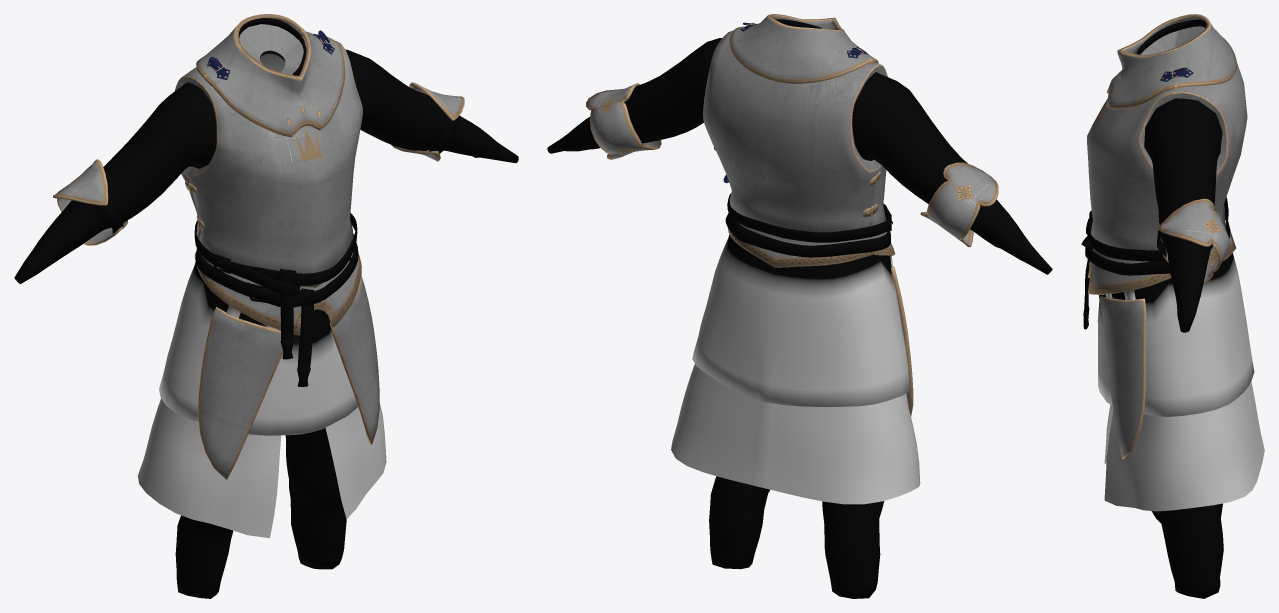
Rendered from swan_knight_armor_2b_t3_slim.fbx.
The picture shows the model from 3 angles, left to right: view 1: azimuth 30°, elevation 25°; view 2: azimuth 150°, elevation 25°; view 3: azimuth 270°, elevation 25°; orthographic projection. The views are drawn at different scales.
Visible parts, largest first — view 1: swan_knight_armor_2b_t3_slim.0, swan_knight_armor_2b_t3_slim.1; view 2: swan_knight_armor_2b_t3_slim.0, swan_knight_armor_2b_t3_slim.1; view 3: swan_knight_armor_2b_t3_slim.0, swan_knight_armor_2b_t3_slim.1.
Boxes of the visible parts, box(x1,y1,x2,y2) form: swan_knight_armor_2b_t3_slim.0: box(14, 18, 518, 598); swan_knight_armor_2b_t3_slim.1: box(53, 14, 464, 479); swan_knight_armor_2b_t3_slim.0: box(547, 19, 1052, 598); swan_knight_armor_2b_t3_slim.1: box(586, 14, 998, 416); swan_knight_armor_2b_t3_slim.0: box(1081, 19, 1264, 598); swan_knight_armor_2b_t3_slim.1: box(1087, 14, 1247, 458).
Bounding box in the file's own units: 1.3 × 0.424 × 1.37.
